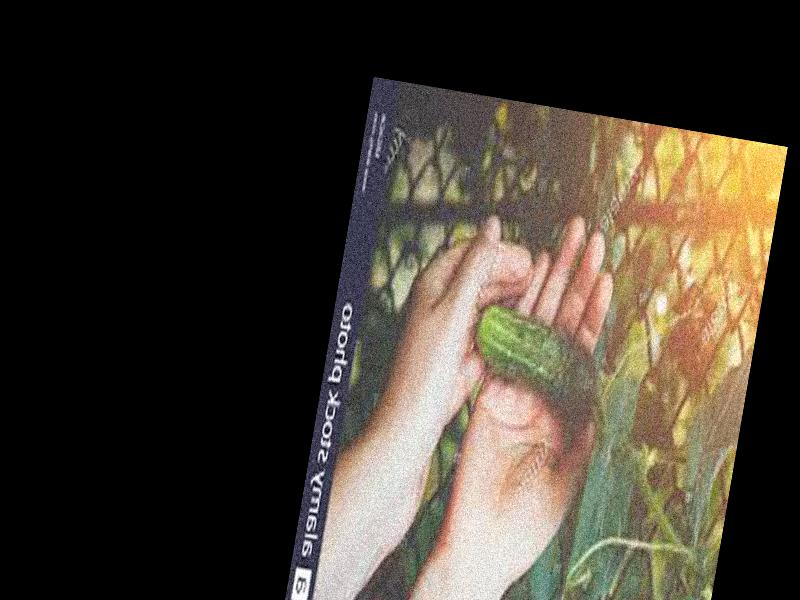Cucumber: (463, 299, 606, 421)
